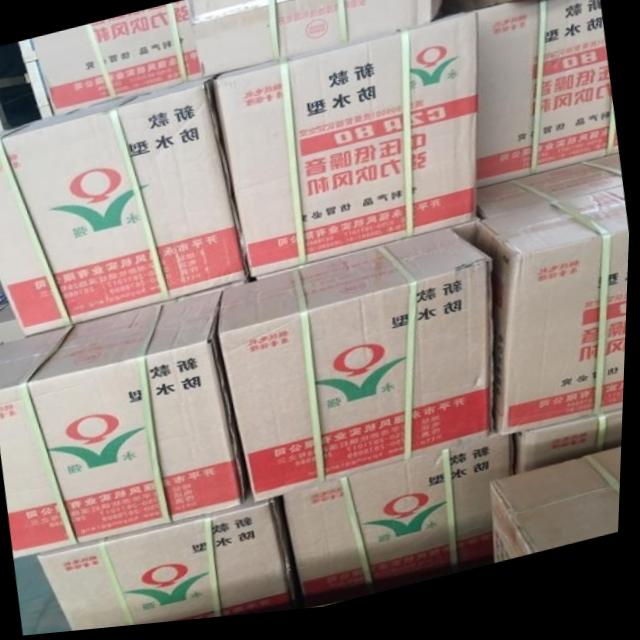box: (220, 238, 498, 508), (214, 19, 479, 283), (0, 295, 253, 559), (0, 79, 251, 338), (287, 438, 520, 609), (479, 197, 631, 447), (42, 493, 303, 633), (473, 0, 620, 198), (186, 0, 446, 83), (32, 3, 201, 116), (494, 459, 625, 572), (479, 165, 625, 228), (519, 422, 626, 484), (448, 0, 568, 23)
